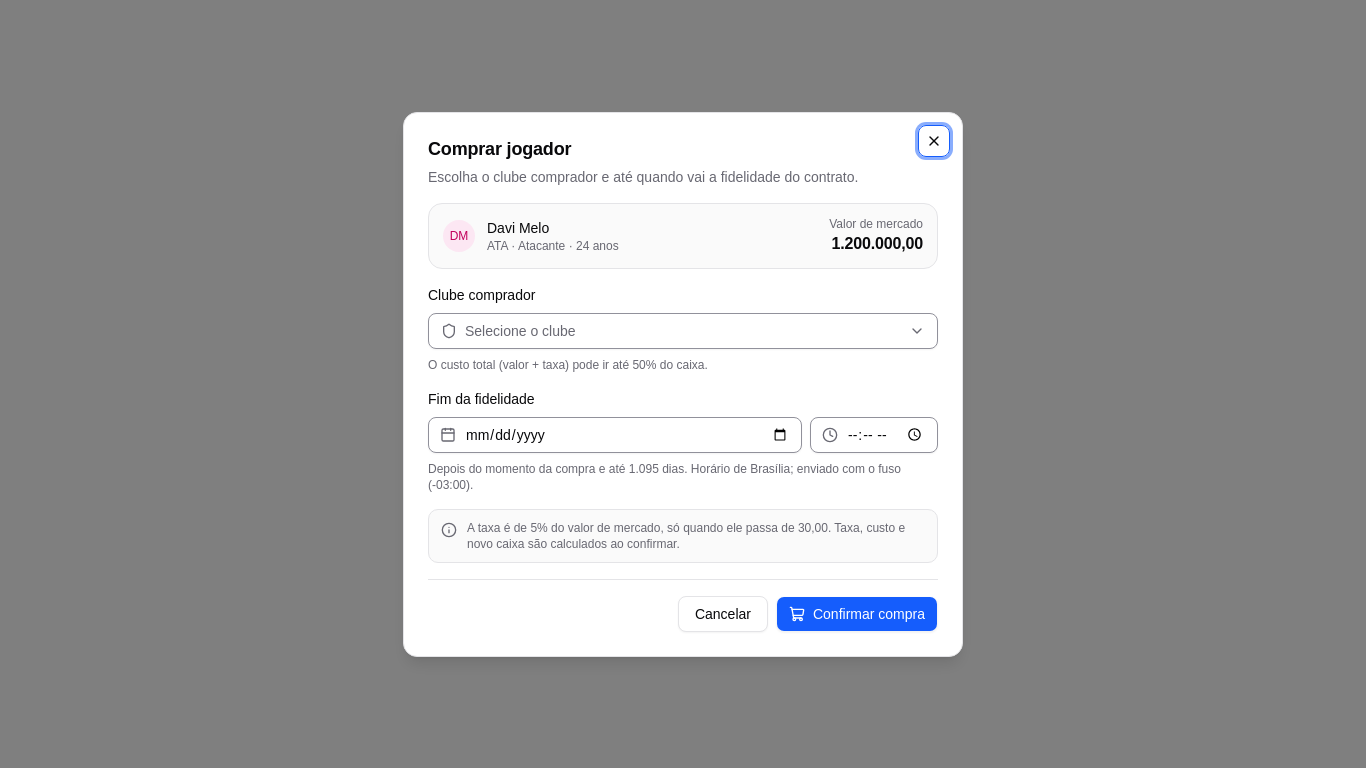
Test: BuyPlayerDialog › mostra Compra concluída após sucesso
Step 1. Click the dropdown → (520, 330), box left=428, top=312, right=938, bottom=348
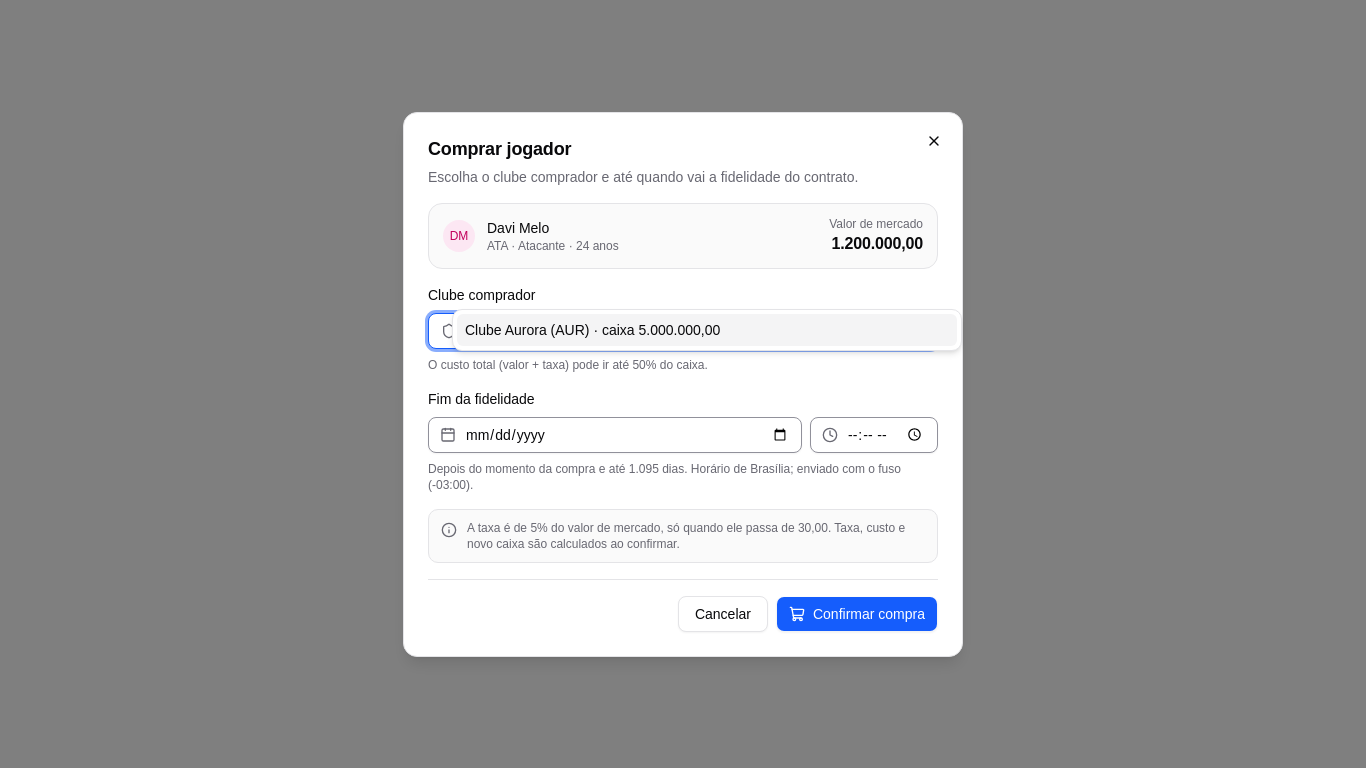
Step 2. Click the option "Clube Aurora (AUR) · caixa 5.000.000,00" → (707, 330), box left=457, top=314, right=957, bottom=346
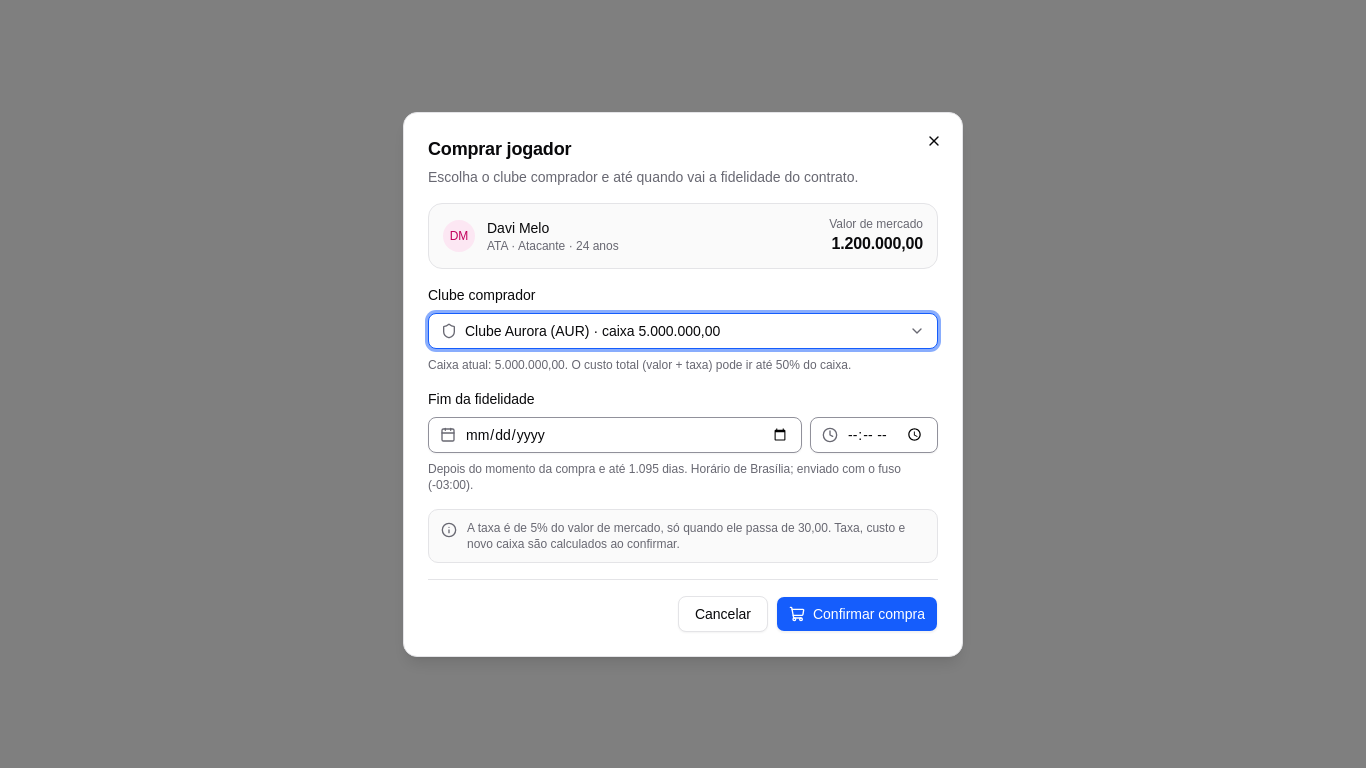
Step 3. Type "2027-06-01" into the date field named "Data da fidelidade" → (615, 434), box left=428, top=416, right=802, bottom=452
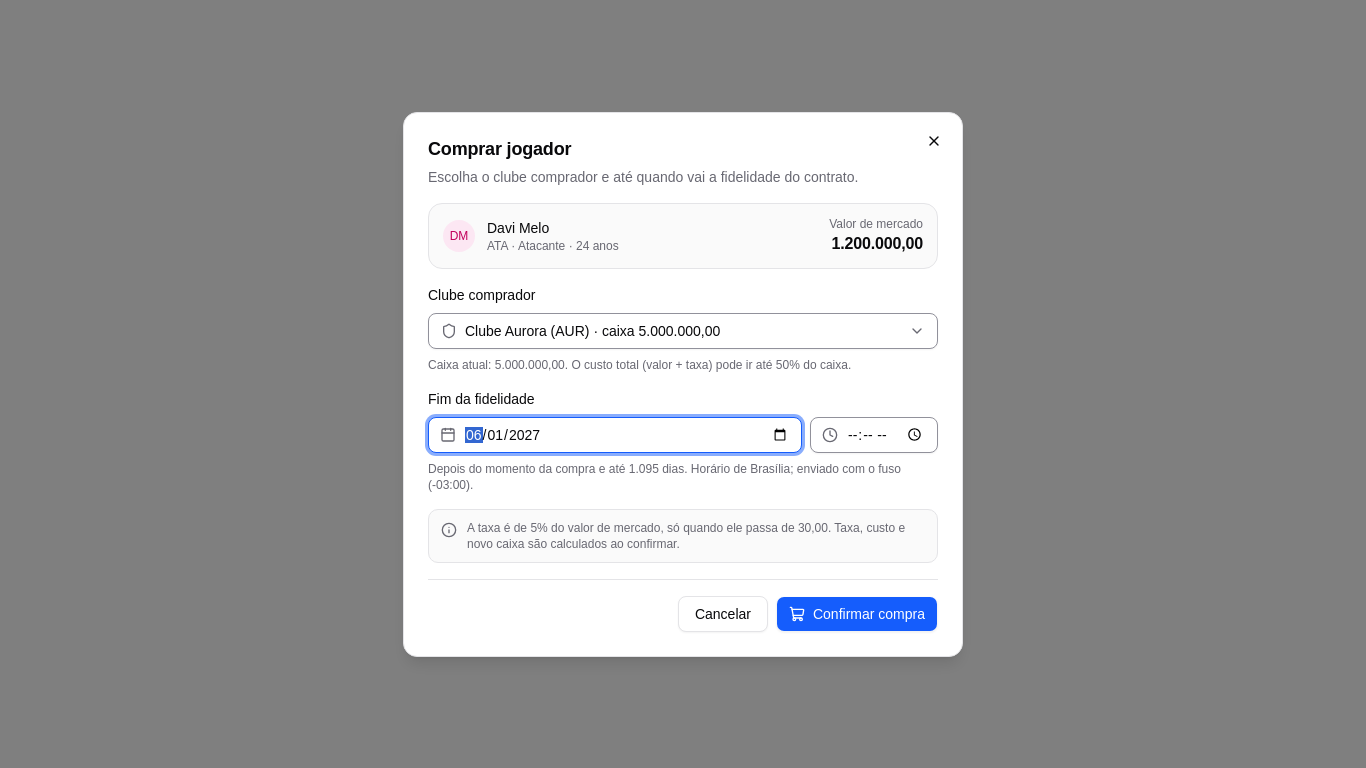
Step 4. Type "15:30" into the time field named "Hora da fidelidade" → (874, 434), box left=810, top=416, right=938, bottom=452
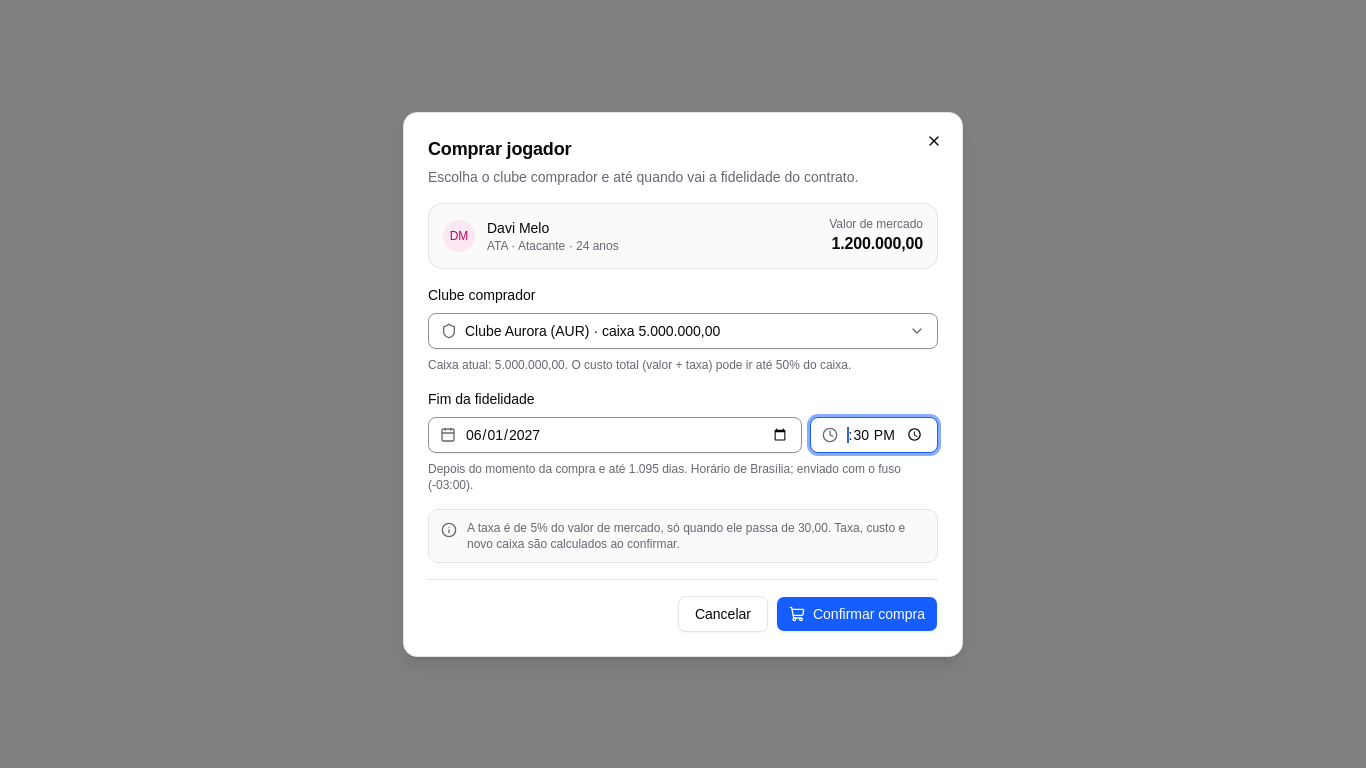
Step 5. Click the button "Confirmar compra" → (857, 614), box left=776, top=596, right=938, bottom=632
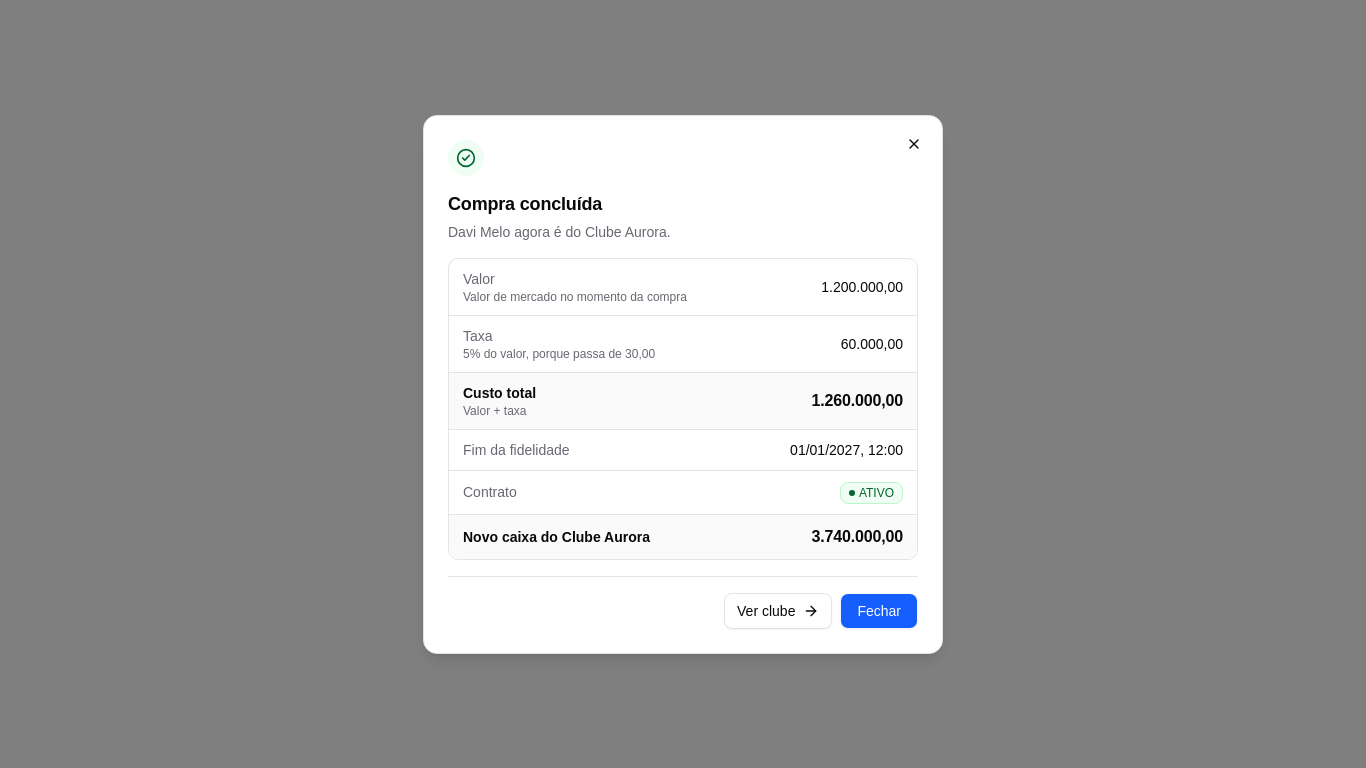
Now the heading "Compra concluída" is shown, box left=448, top=194, right=602, bottom=214
